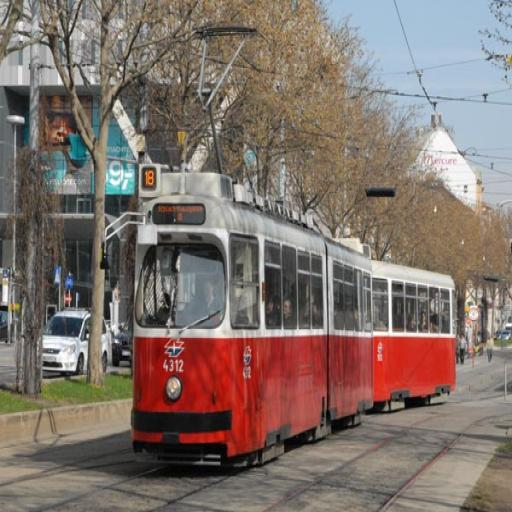E2-Tram: (129, 162, 460, 470)
